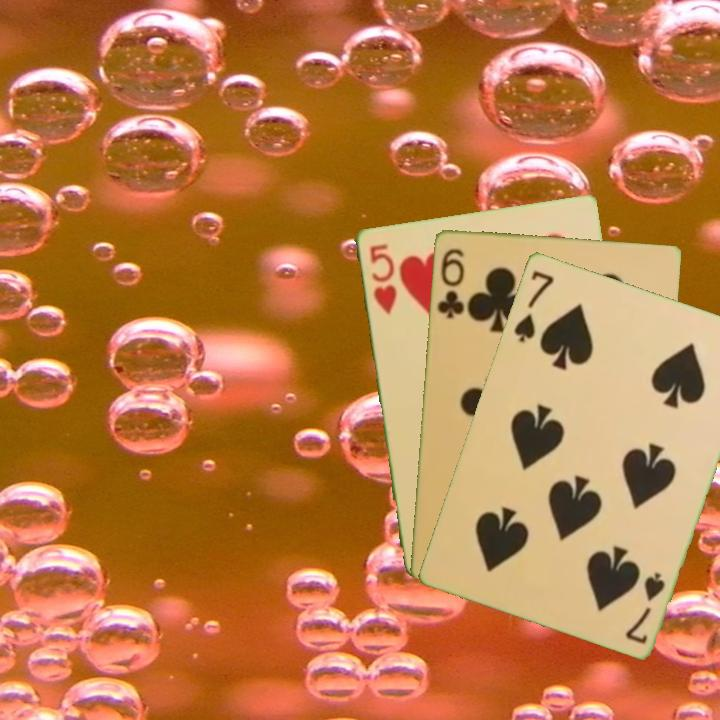5h: (365, 240, 399, 317)
6c: (433, 244, 467, 321)
7s: (510, 266, 557, 345), (621, 568, 668, 646)
